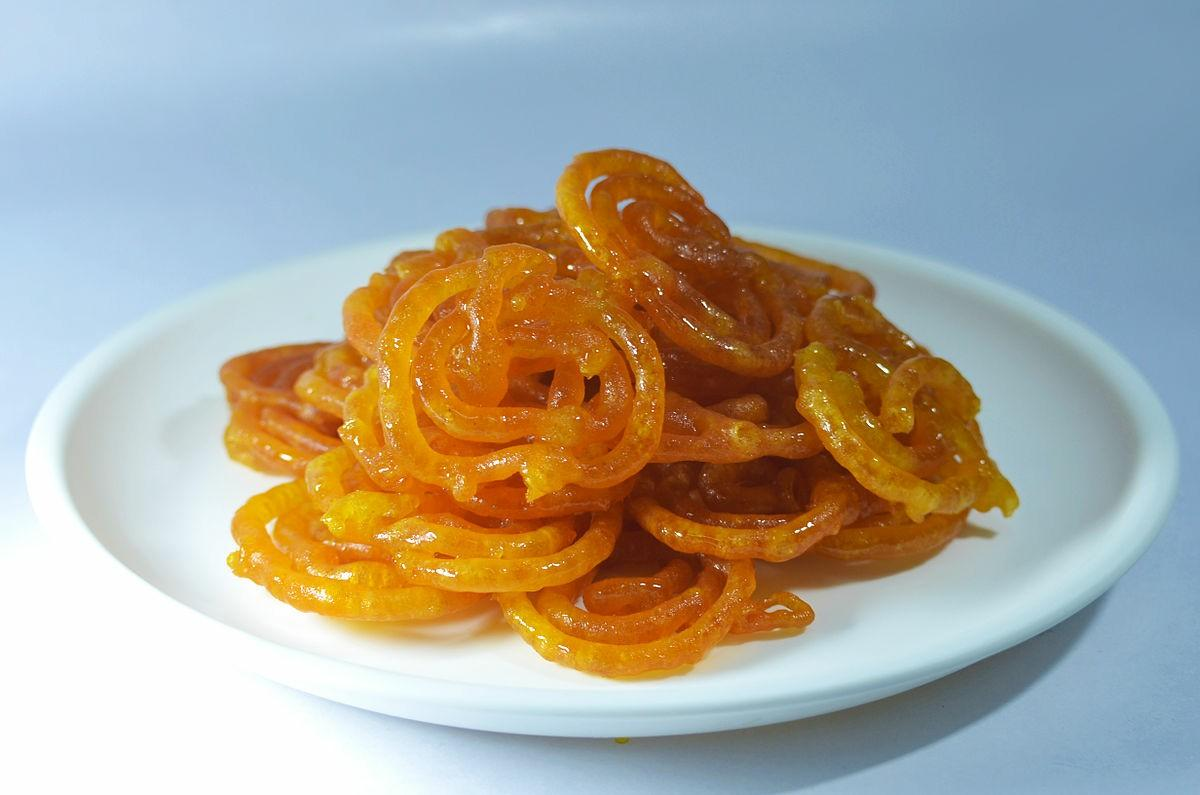Jalebi: (221, 146, 1018, 683)
